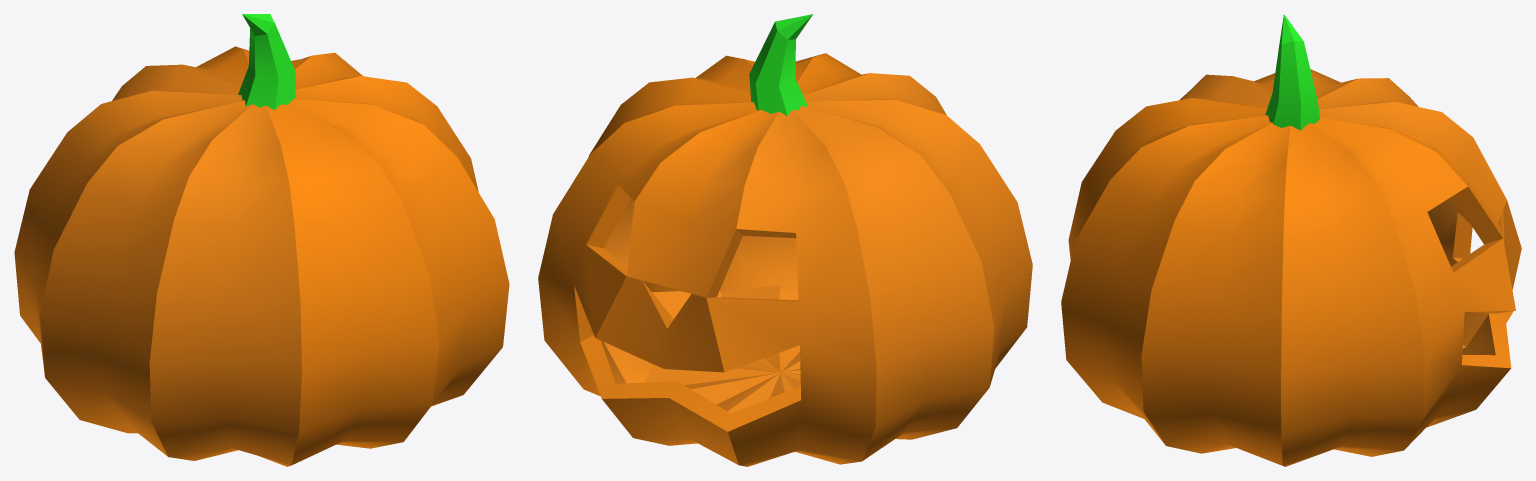
The model's file is Abobora_01_Base.fbx.
3 views of the same model, side by side, from view 1: azimuth 30°, elevation 25°; view 2: azimuth 150°, elevation 25°; view 3: azimuth 270°, elevation 25° (orthographic). The views are drawn at different scales.
Parts seen in each view (by area): view 1: Abobora_01; view 2: Abobora_01; view 3: Abobora_01.
Part boxes in pixels (x1,y1,x2,y2): Abobora_01: (14, 14, 509, 466); Abobora_01: (538, 14, 1032, 466); Abobora_01: (1061, 14, 1521, 466).
Bounding box in the file's own units: 31.37 × 27.55 × 30.24.
